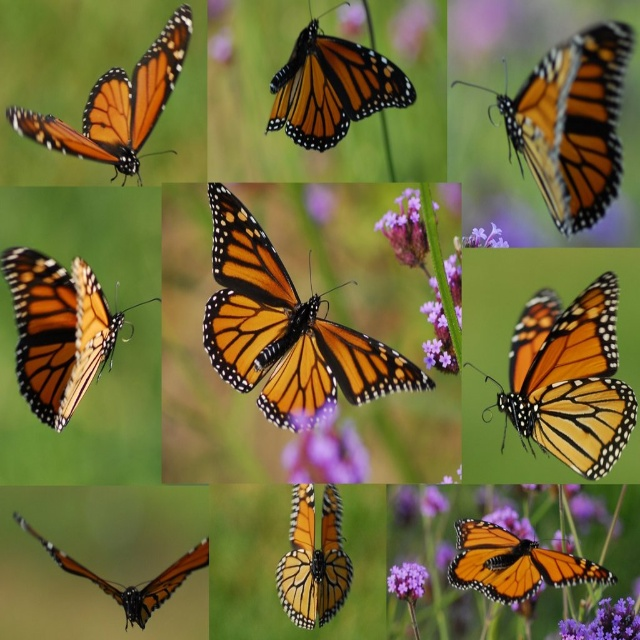Butterfly: (208, 182, 436, 432), (447, 15, 626, 241), (459, 263, 632, 484), (23, 19, 196, 199), (0, 253, 161, 438), (10, 510, 208, 636), (267, 0, 418, 153), (444, 513, 620, 611), (270, 474, 355, 637)
